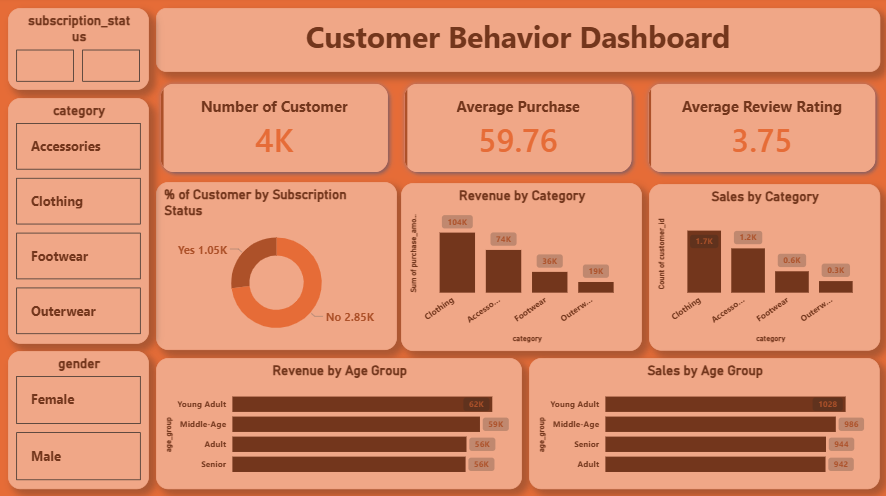

This screenshot's page, from the dashboard's own definition file:
{"tool":"powerbi","page":{"name":"Page 1","canvas":[1280,720],"ordinal":0},"visuals":[{"type":"cardVisual","fields":{"Data":["final_data.Number of Customer","final_data.Average Purchase","final_data.Average Review Rating"]},"box":[216,108,1064.2,161.3],"z":0},{"type":"textbox","box":[226.1,15.8,1042.6,92.2],"z":1000},{"type":"donutChart","title":"% of Customer by Subscription Status","fields":{"Category":["final_data.subscription_status"],"Y":["CountNonNull(final_data.customer_id)"]},"box":[226.1,266.4,347,241.9],"z":2000},{"type":"clusteredColumnChart","title":"Revenue by Category","fields":{"Category":["final_data.category"],"Y":["Sum(final_data.purchase_amount)"]},"box":[578.9,267.8,347,241.9],"z":3000},{"type":"clusteredColumnChart","title":"Sales by Category","fields":{"Category":["final_data.category"],"Y":["CountNonNull(final_data.customer_id)"]},"box":[936,269.3,332.6,240.5],"z":4000},{"type":"advancedSlicerVisual","fields":{"Values":["final_data.subscription_status"]},"box":[13,15.8,203,118.1],"z":5000},{"type":"advancedSlicerVisual","fields":{"Values":["final_data.category"]},"box":[13,145.4,203,354.2],"z":6000},{"type":"advancedSlicerVisual","fields":{"Values":["final_data.gender"]},"box":[13,509.8,203,198.7],"z":7000},{"type":"clusteredBarChart","title":"Revenue by Age Group","fields":{"Category":["final_data.age_group"],"Y":["Sum(final_data.purchase_amount)"]},"box":[226.1,519.8,527,188.6],"z":8000},{"type":"clusteredBarChart","title":"Sales by Age Group","fields":{"Category":["final_data.age_group"],"Y":["CountNonNull(final_data.customer_id)"]},"box":[763.2,519.8,505.4,188.6],"z":9000}]}

Visuals, with their boxes in screenshot pixels (x1, y1, x2, y2), scaled from the page's 1280x720 canvas onto the 886x496 screenshot:
cardVisual - final_data.Number of Customer x final_data.Average Purchase: [left=150, top=74, right=885, bottom=186]
textbox: [left=157, top=11, right=878, bottom=74]
"% of Customer by Subscription Status" donutChart: [left=157, top=184, right=397, bottom=350]
"Revenue by Category" clusteredColumnChart: [left=401, top=184, right=641, bottom=351]
"Sales by Category" clusteredColumnChart: [left=648, top=186, right=878, bottom=351]
advancedSlicerVisual - final_data.subscription_status: [left=9, top=11, right=150, bottom=92]
advancedSlicerVisual - final_data.category: [left=9, top=100, right=150, bottom=344]
advancedSlicerVisual - final_data.gender: [left=9, top=351, right=150, bottom=488]
"Revenue by Age Group" clusteredBarChart: [left=157, top=358, right=521, bottom=488]
"Sales by Age Group" clusteredBarChart: [left=528, top=358, right=878, bottom=488]
